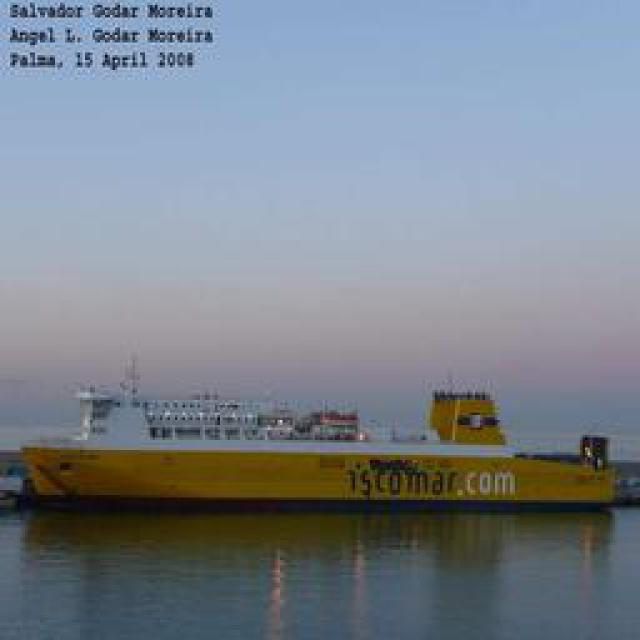Ship: (11, 388, 631, 513)
